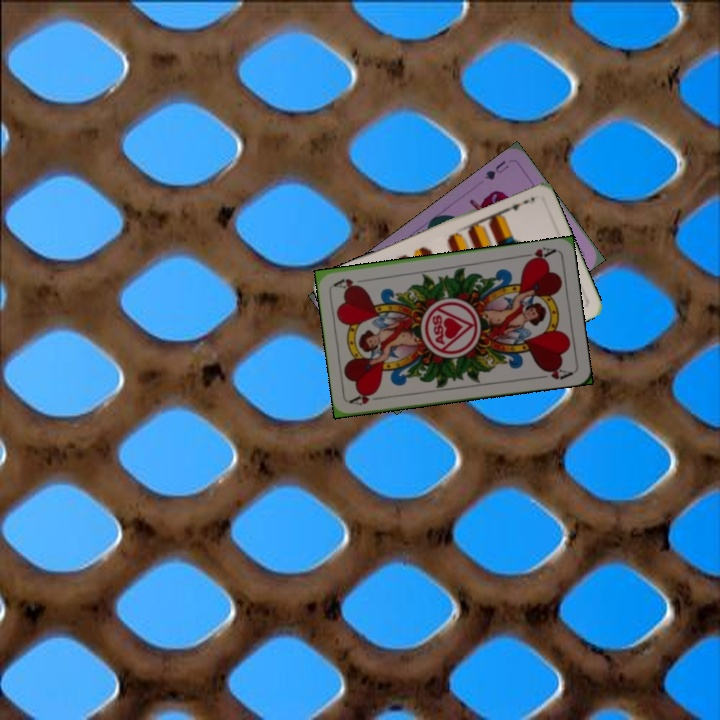E7: (500, 195, 531, 215)
GU: (480, 156, 512, 183)
HA: (518, 243, 558, 265), (347, 388, 388, 408)
